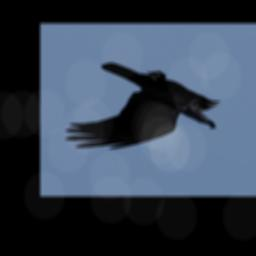Crow: (64, 62, 222, 150)
